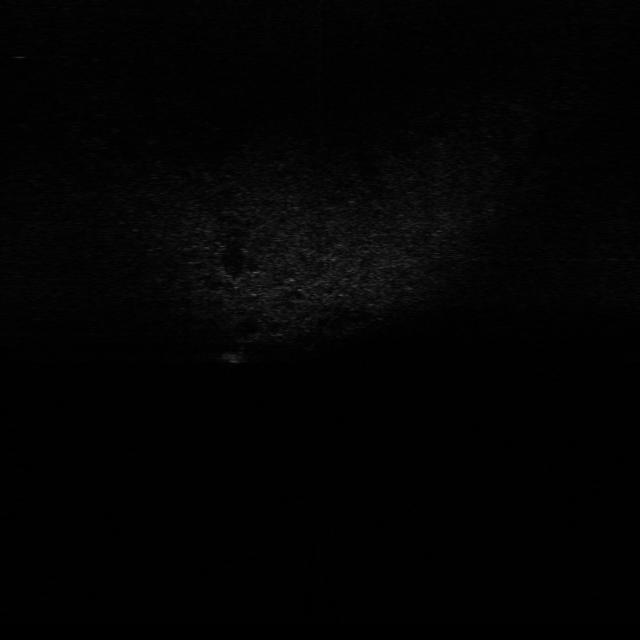cube: (214, 346, 247, 368)
